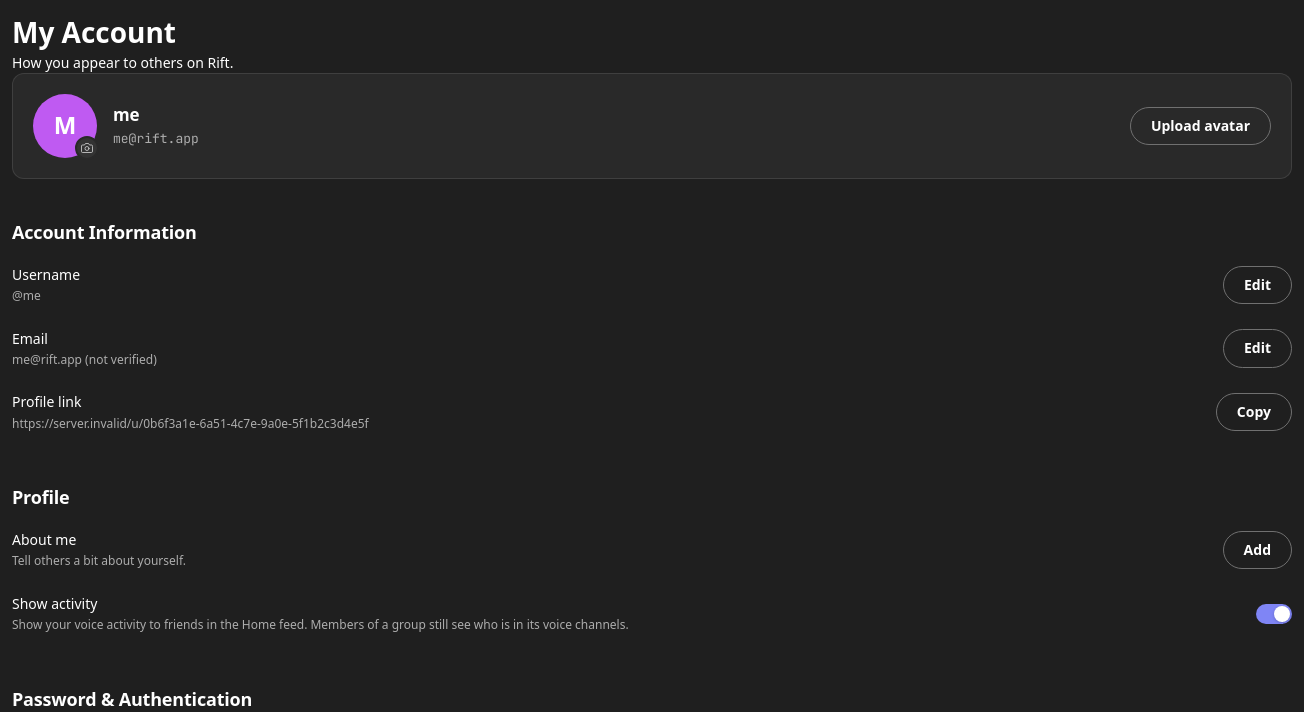
Test: says so when the link cannot be copied
Click the button "Copy" at {"x": 1254, "y": 412}, box [1216, 393, 1292, 431]
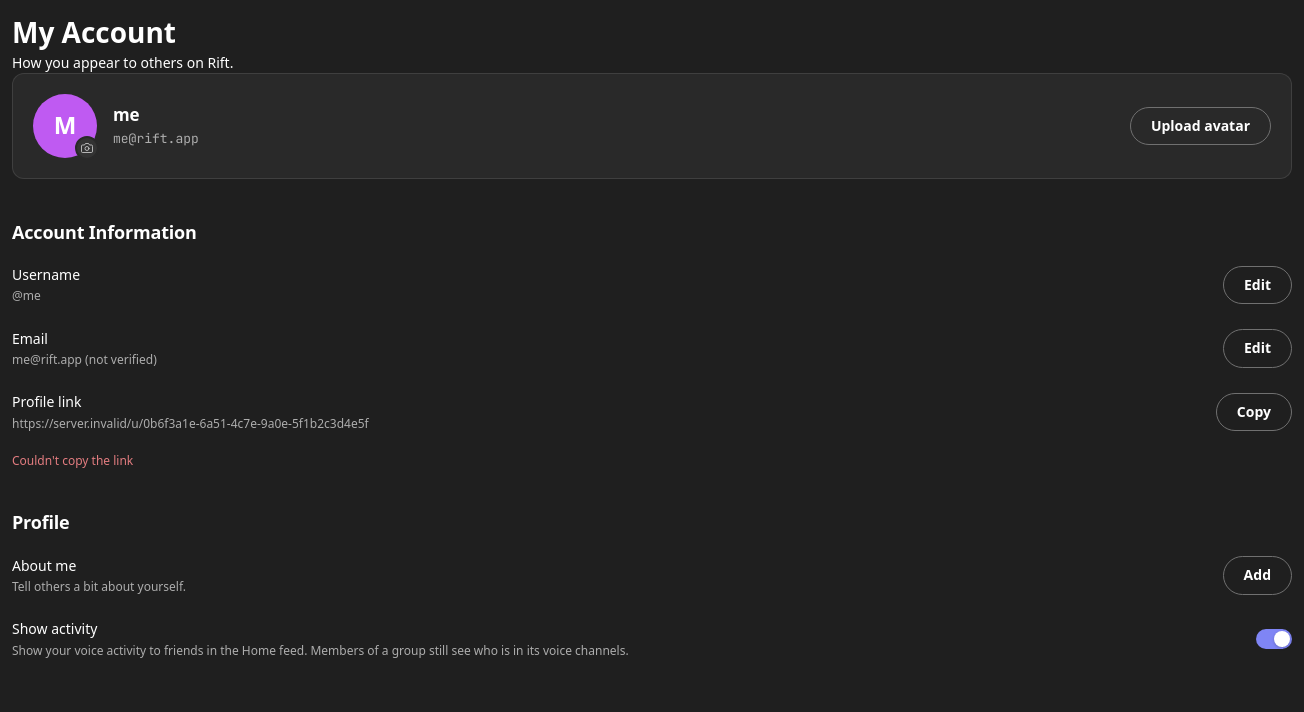
Now the text "Couldn't copy the link" is shown, box [12, 452, 133, 469]
